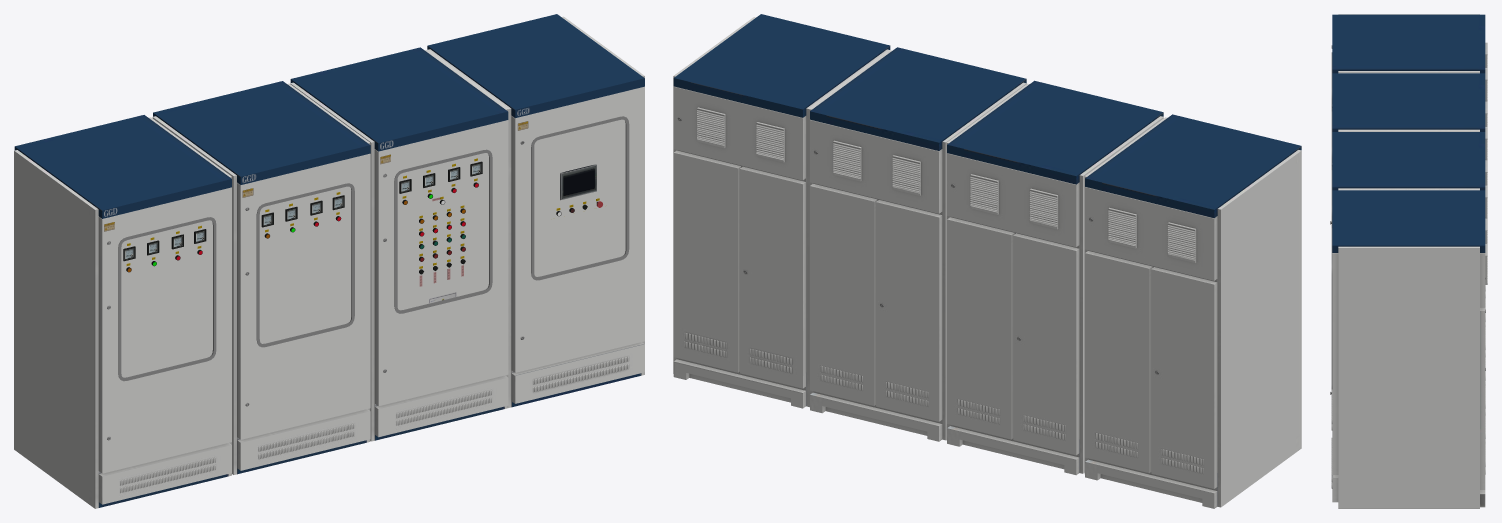
File: LX_zhongyangkongtiaojiankongxitong.glb
3 renders of one model, left to right at view 1: azimuth 30°, elevation 25°; view 2: azimuth 150°, elevation 25°; view 3: azimuth 270°, elevation 25°, orthographic. The views are drawn at different scales.
Bounding box in the file's own units: 3.87 × 2.02 × 1.1.
4 materials, 2 textured.
